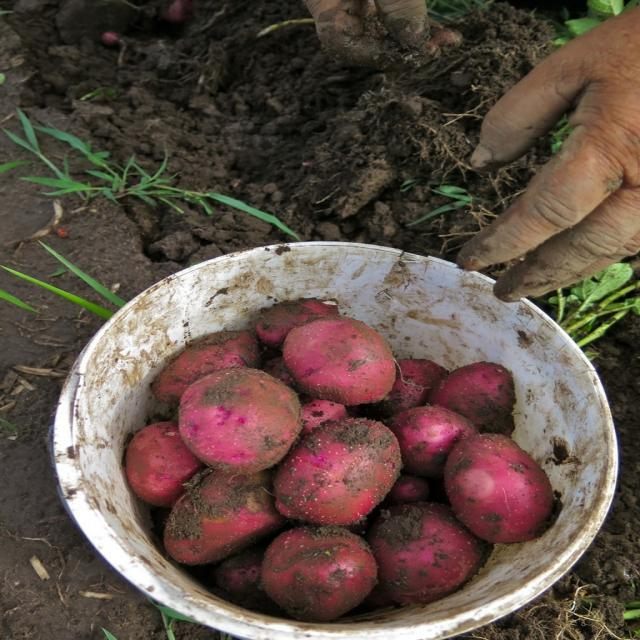Potato: (119, 293, 561, 624), (440, 438, 556, 543), (281, 315, 397, 409)
